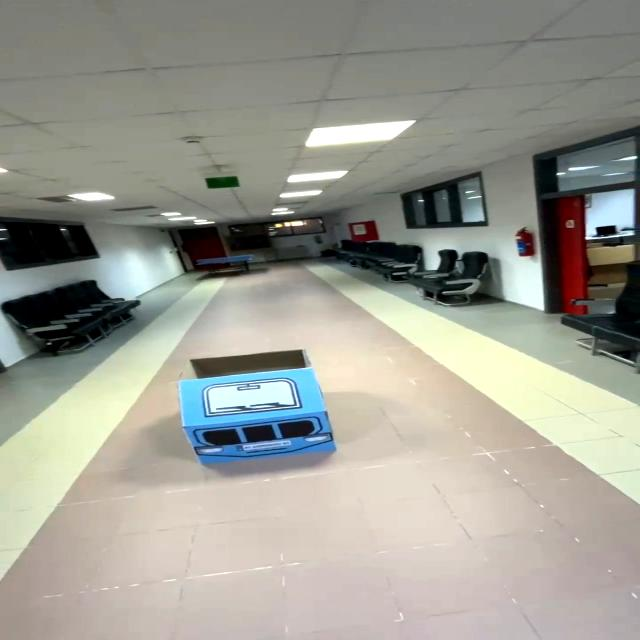blue_car: (143, 344, 359, 494)
